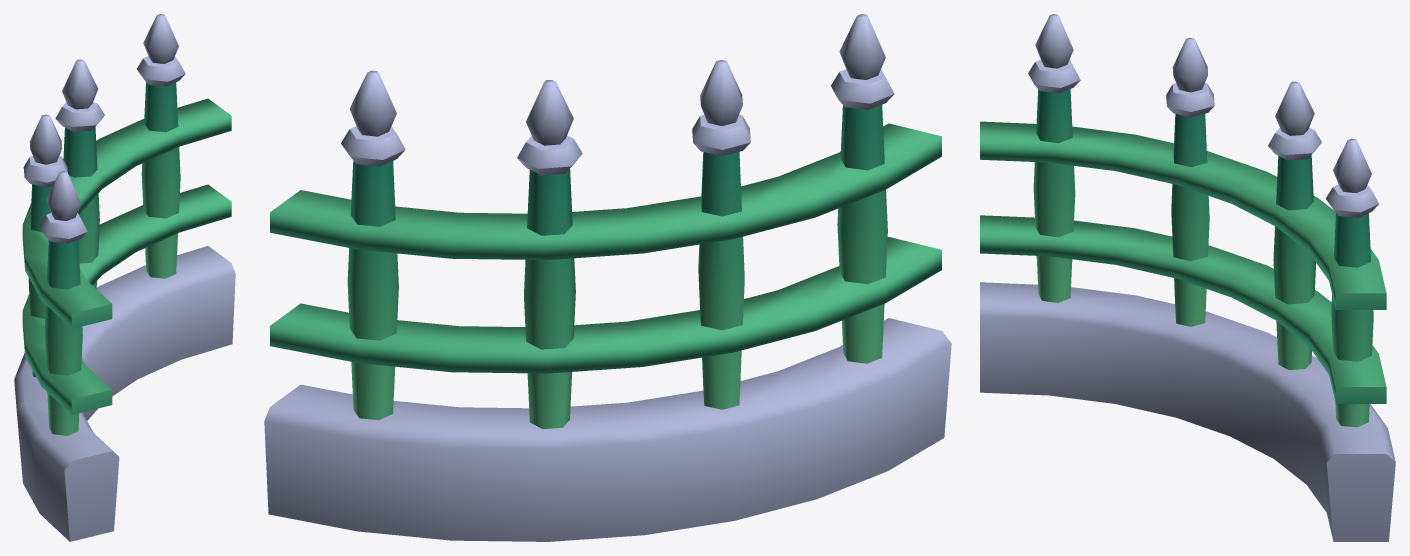
The model's file is iron-fence-border-curve_lev2.glb.
3 views of the same model, side by side, from view 1: azimuth 30°, elevation 25°; view 2: azimuth 150°, elevation 25°; view 3: azimuth 270°, elevation 25° (orthographic). The views are drawn at different scales.
Visible parts, largest first — view 1: iron-fence-border-curve_lev2; view 2: iron-fence-border-curve_lev2; view 3: iron-fence-border-curve_lev2.
Boxes of the visible parts, <box> form: iron-fence-border-curve_lev2: <box>14,14,235,541</box>; iron-fence-border-curve_lev2: <box>264,14,951,541</box>; iron-fence-border-curve_lev2: <box>980,14,1395,541</box>.
Size of the model in its own units: 7.2 by 7.03 by 7.2.
Materials: 1 (1 with a texture image).
